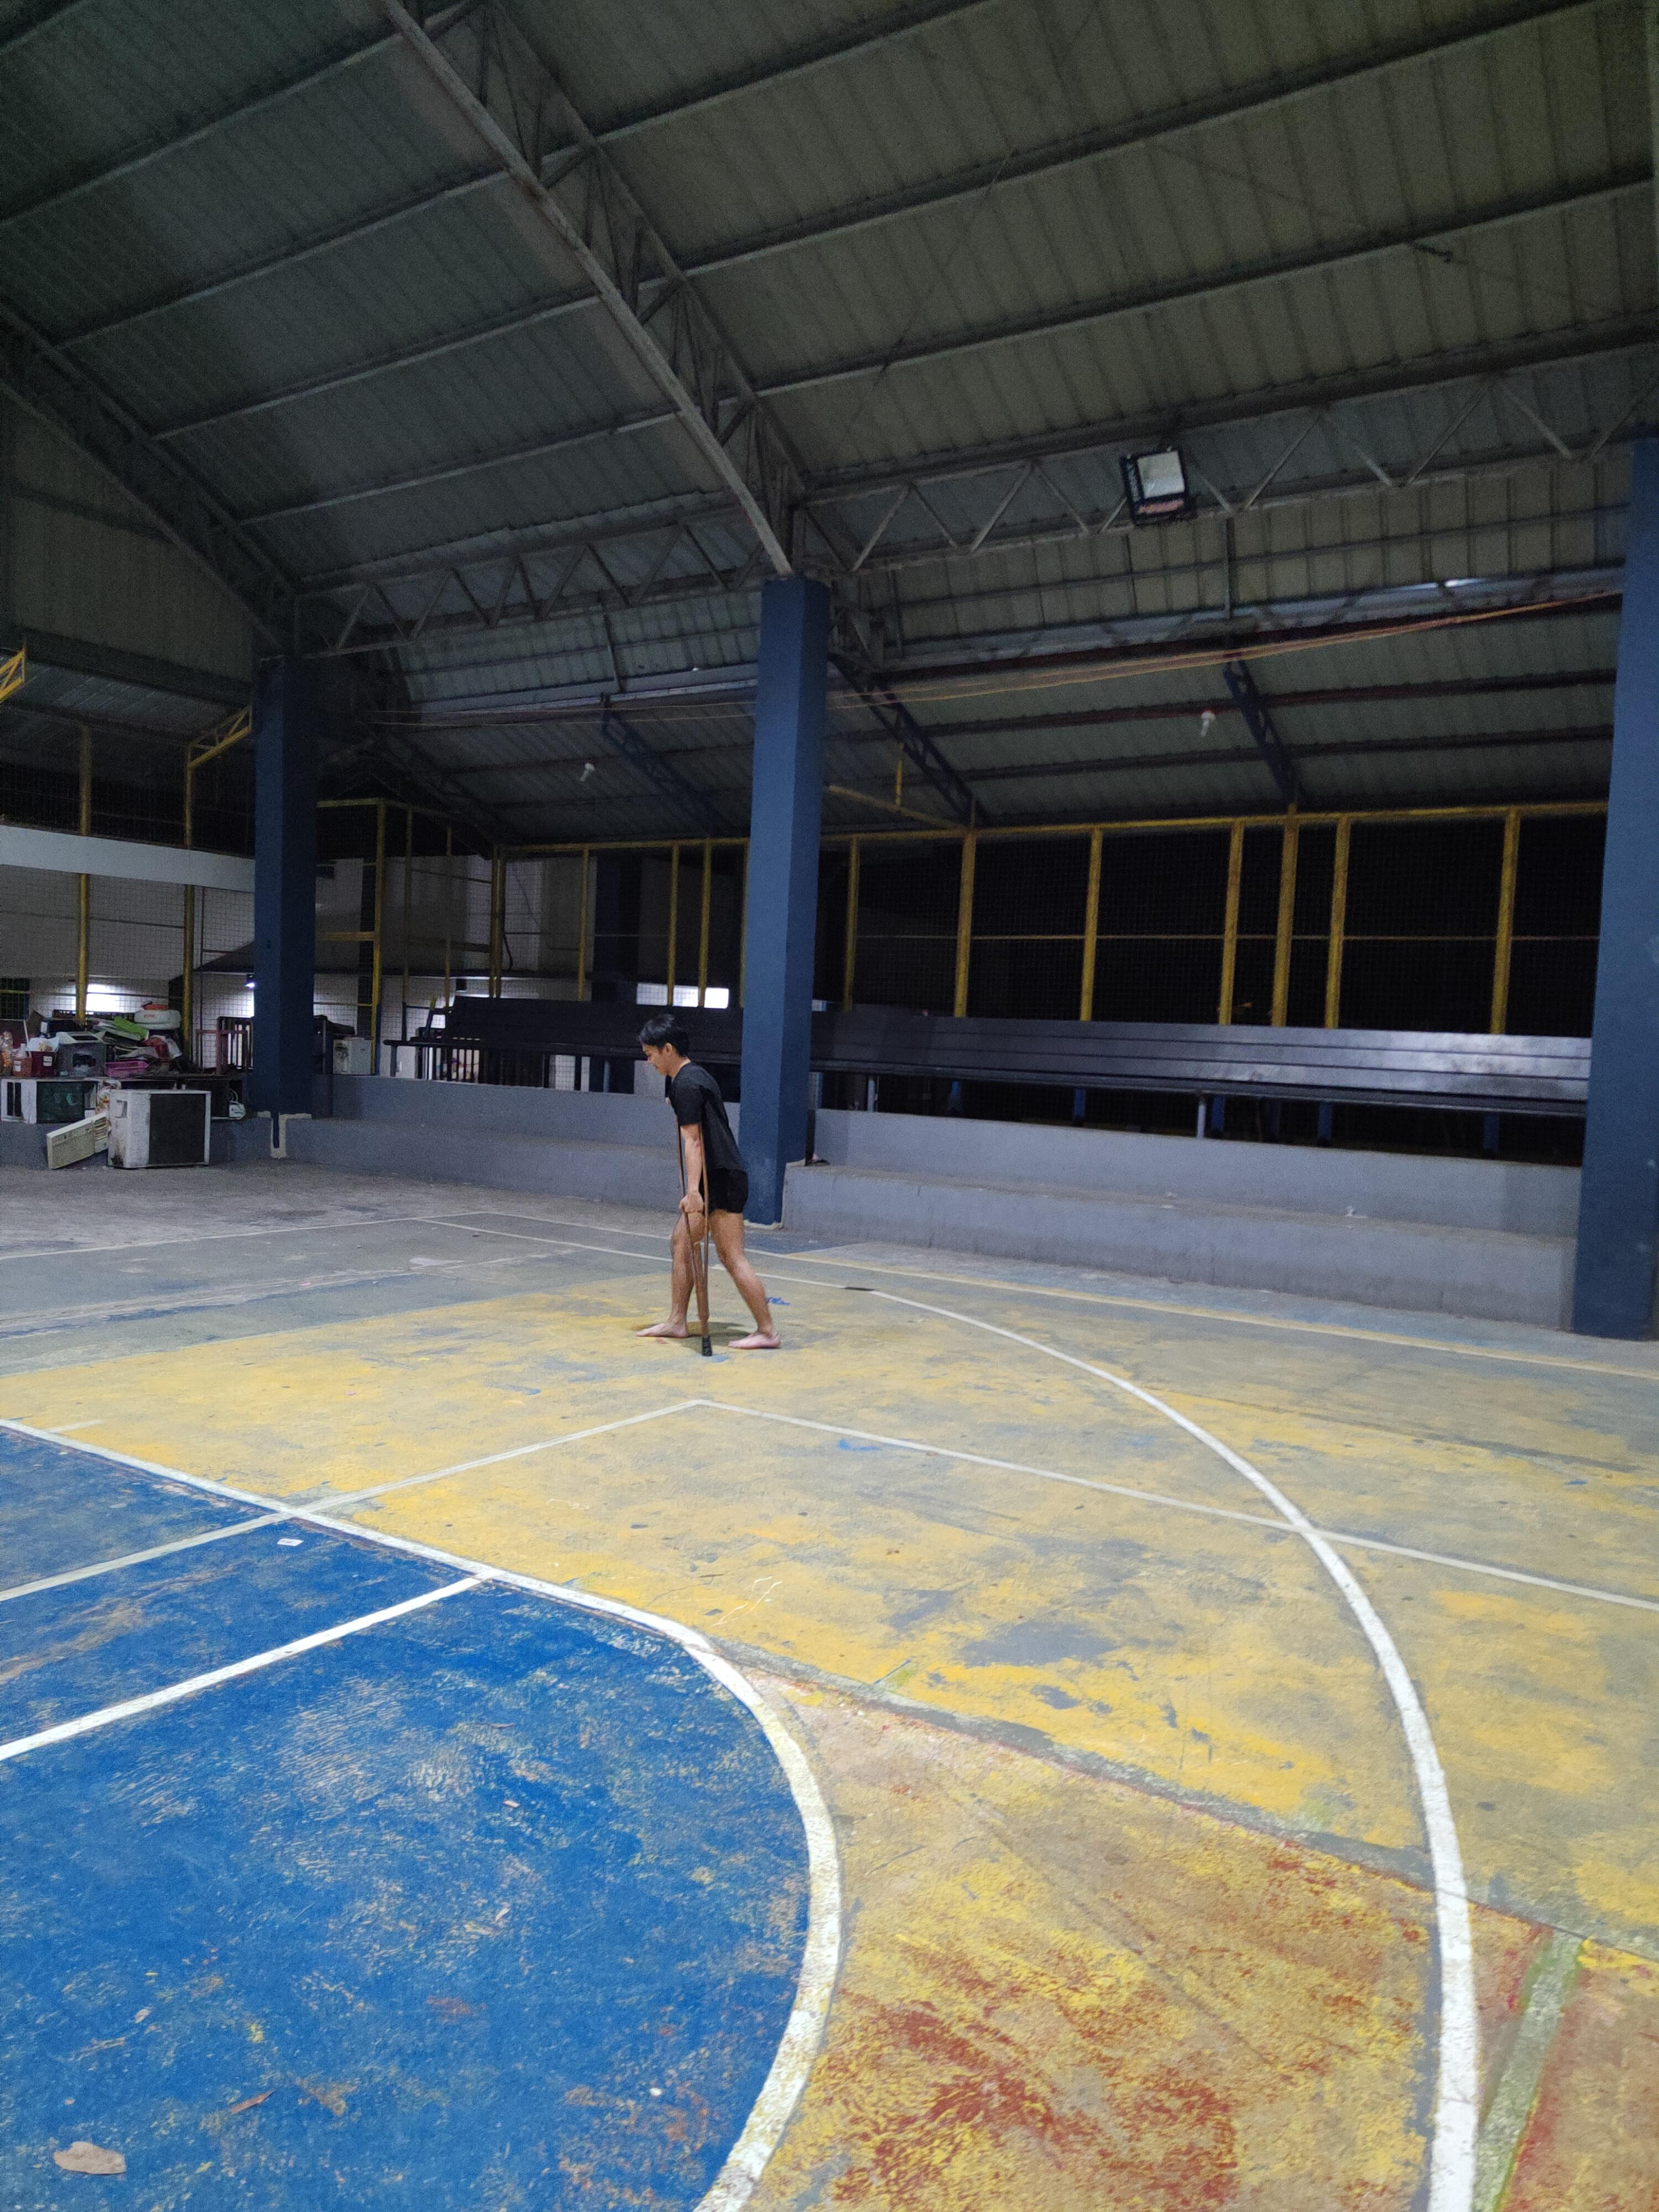crutches: (626, 996, 802, 1367)
